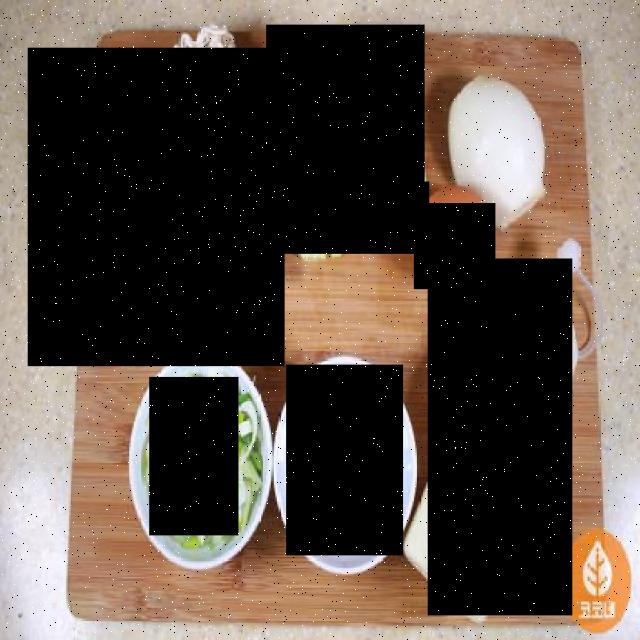Cabbage: (266, 25, 425, 254)
Egg: (414, 182, 495, 289)
Onion: (429, 62, 582, 203)
Onion_Leaves: (149, 378, 239, 536)
Soy_Sauce: (287, 366, 404, 556)
mayonnaise: (429, 259, 573, 616)
noodle: (29, 48, 286, 366)
